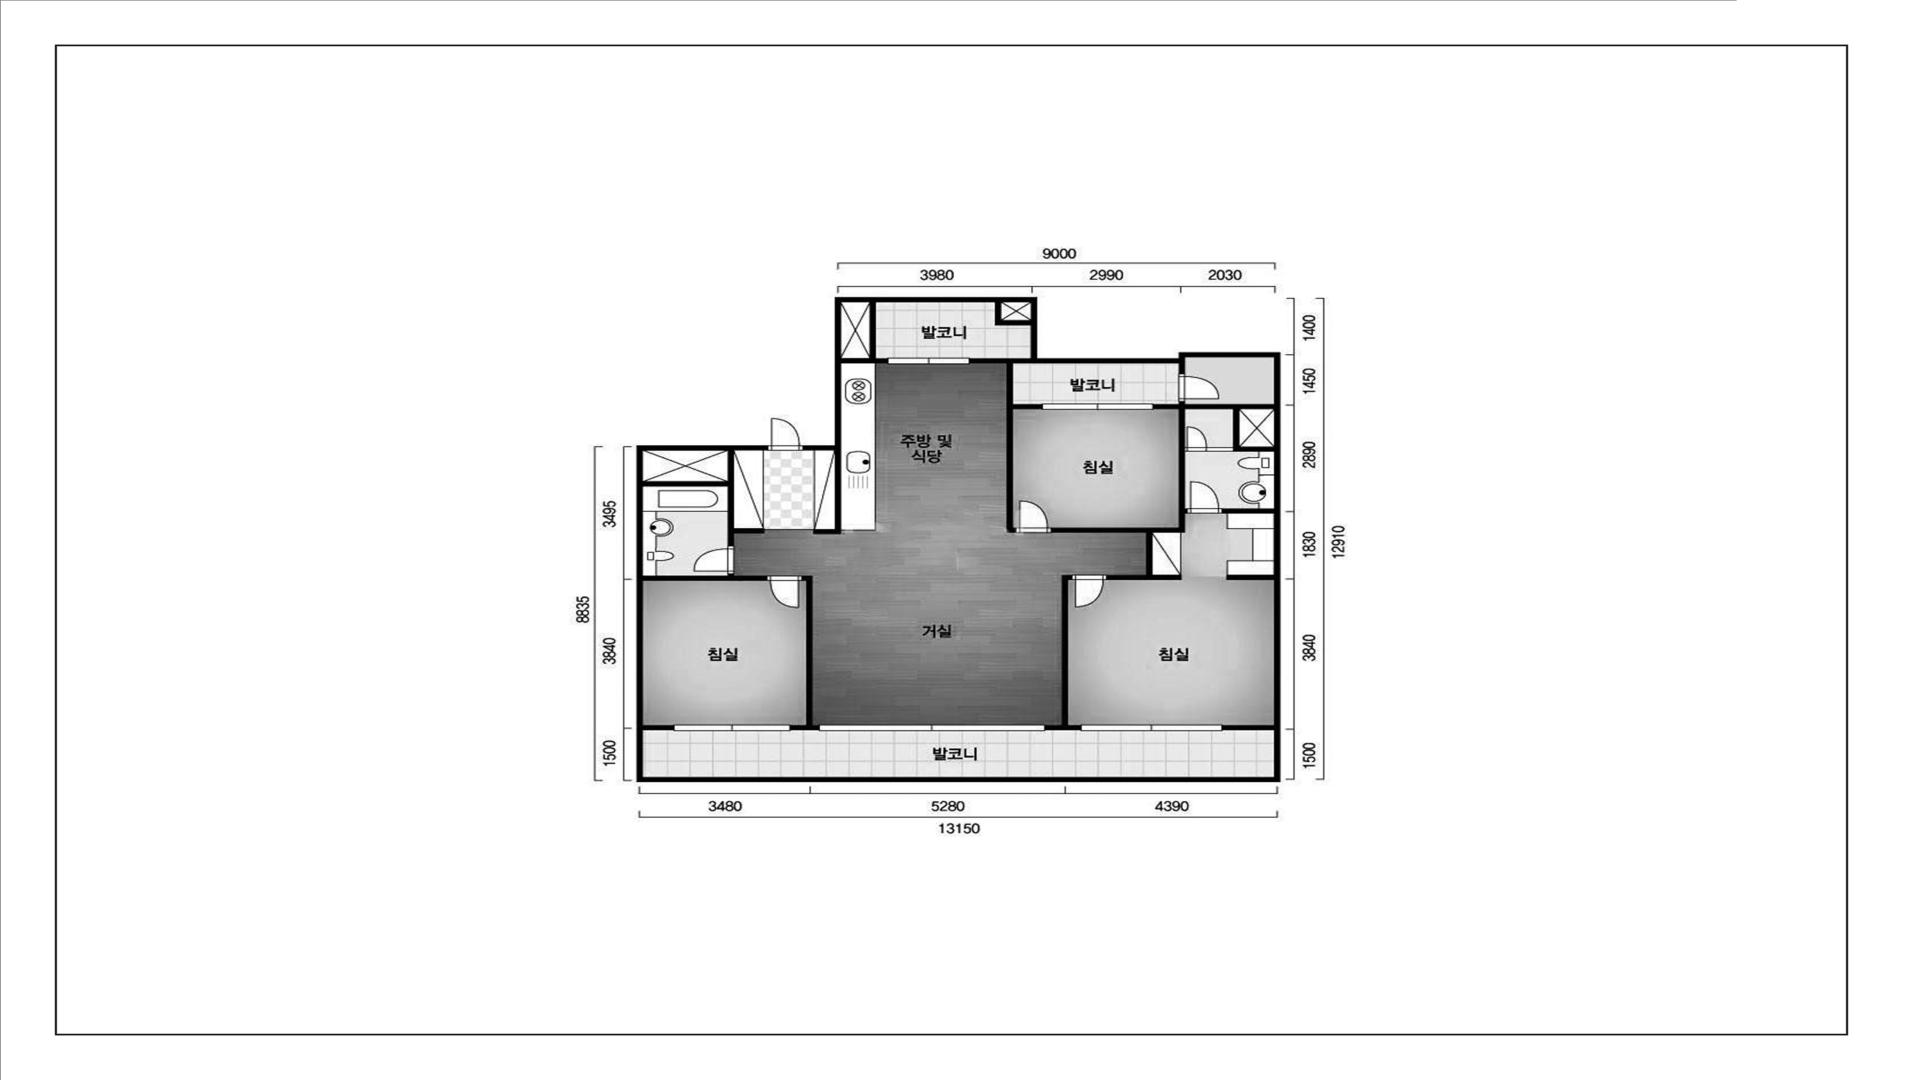background: (0, 0, 1920, 1080)
door: (1178, 373, 1220, 402), (767, 418, 804, 451), (766, 575, 803, 608), (1071, 575, 1108, 608), (1015, 500, 1052, 533), (1187, 480, 1224, 513), (692, 546, 735, 574), (1185, 426, 1208, 451)
wall: (637, 297, 1280, 782), (1052, 402, 1274, 580), (971, 359, 1042, 533), (644, 450, 765, 546), (1046, 575, 1080, 731), (791, 576, 818, 731), (841, 302, 887, 364), (814, 451, 841, 534), (996, 302, 1031, 326), (644, 574, 766, 580), (1224, 508, 1274, 513), (1224, 725, 1274, 731), (1226, 575, 1274, 580), (644, 725, 673, 731), (1179, 364, 1184, 373)
window: (818, 724, 1046, 732), (1080, 724, 1222, 732), (673, 724, 791, 732), (1042, 404, 1154, 410), (887, 357, 971, 365)
